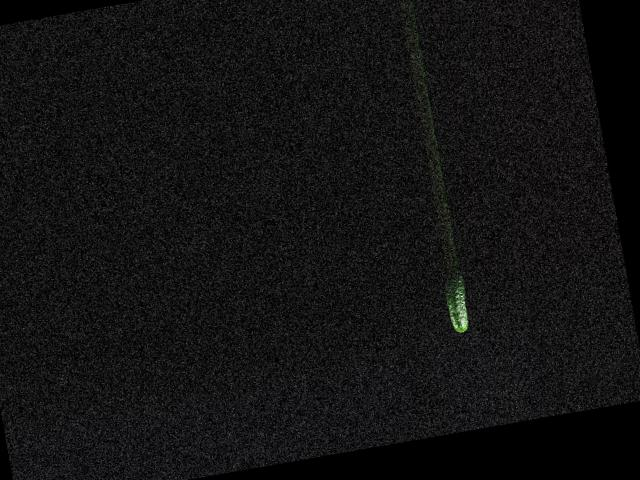cucumber: (442, 272, 473, 334)
